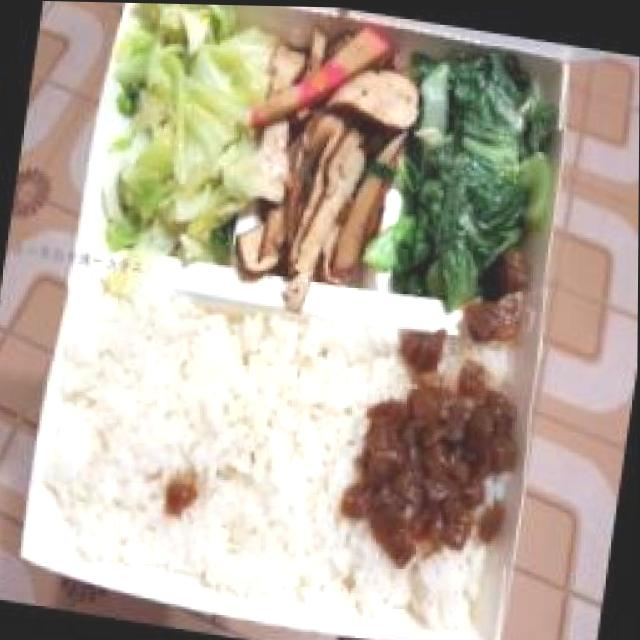rice: (41, 269, 398, 615)
